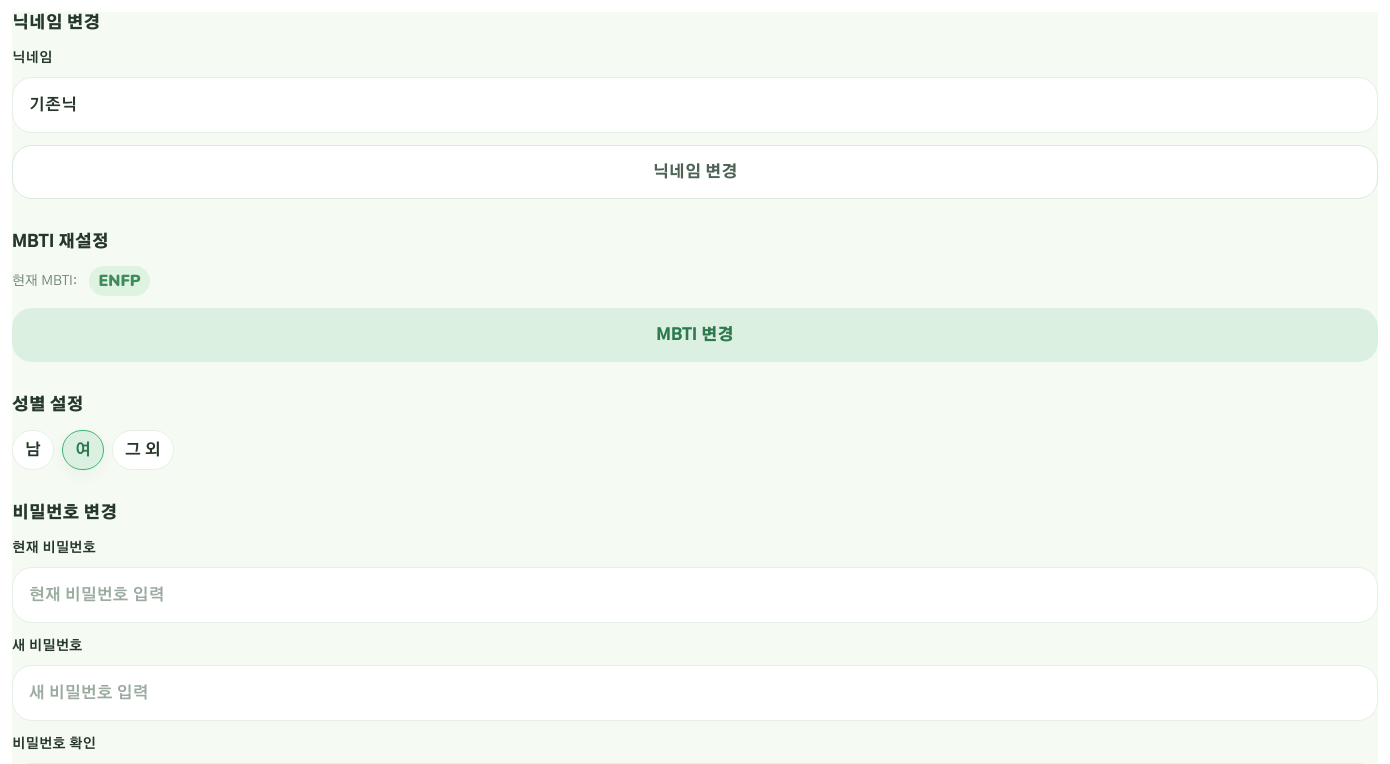
Test: SettingsForm › 닉네임 변경 성공 시 toast를 표시한다
The width and height of the screenshot is (1390, 764).
Replace the text in the field labelled "닉네임" with "새닉네임" at point(695, 105), box [12,77,1378,133]
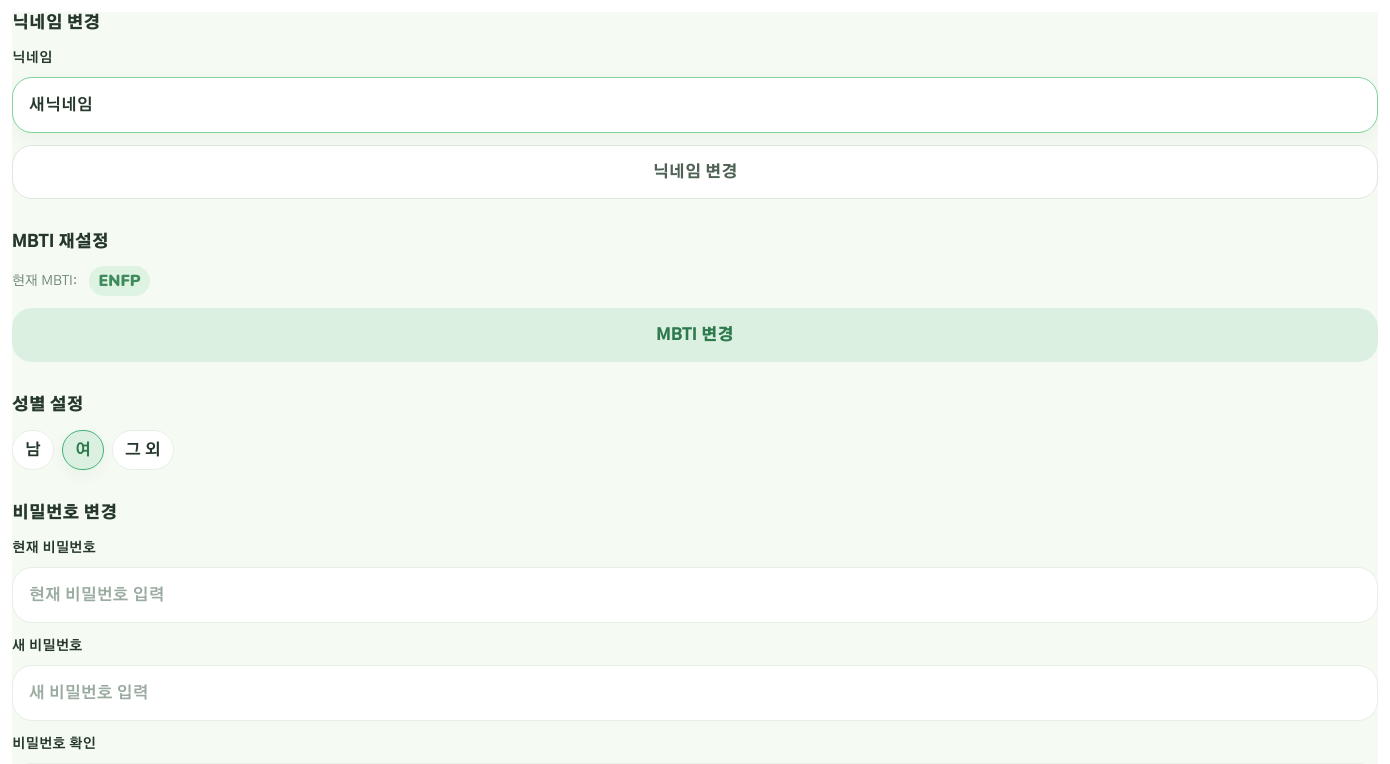
Click the button "닉네임 변경" at point(695, 172), box [12,145,1378,199]
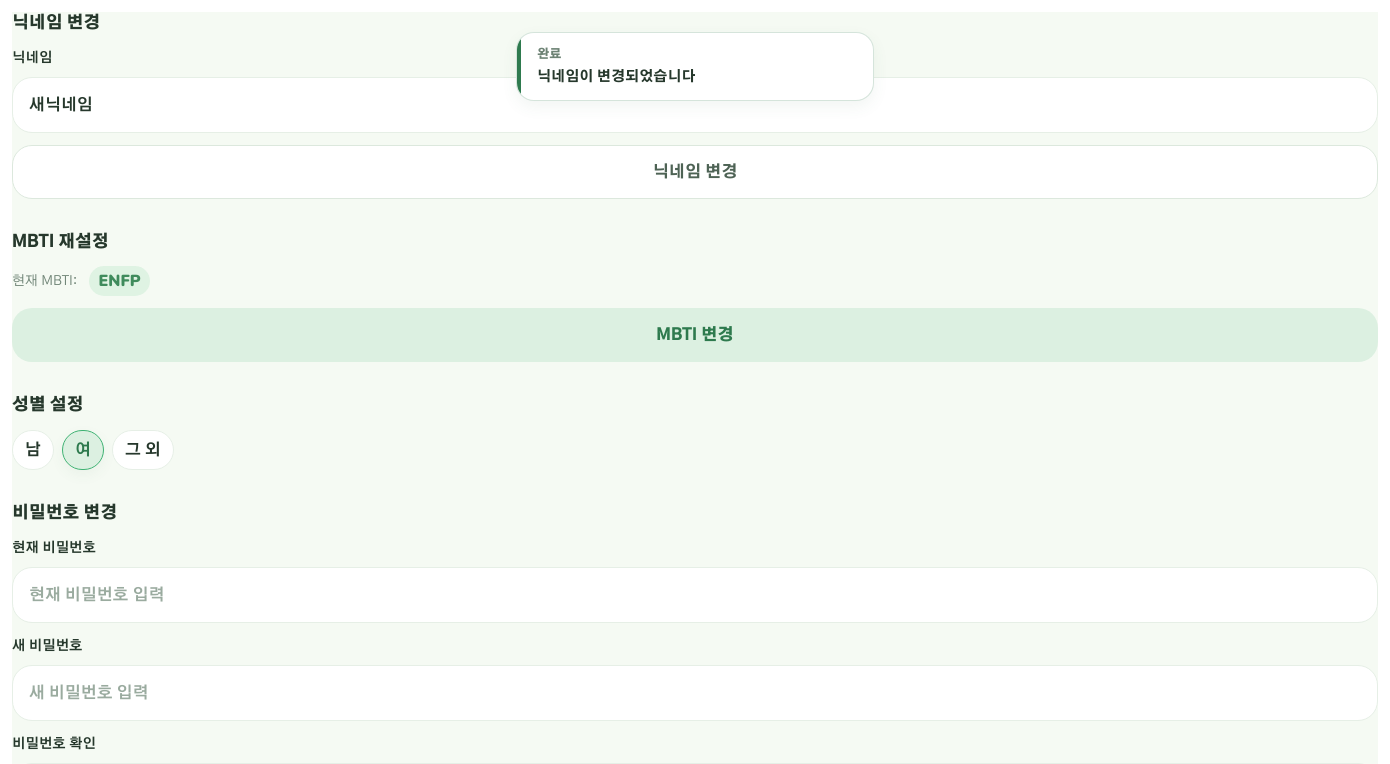
Expected: the text "닉네임이 변경되었습니다" is shown, [537,70,696,84]
